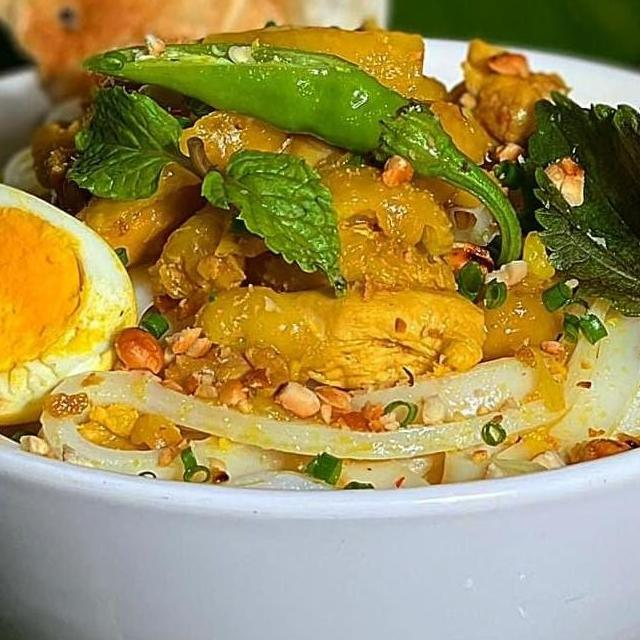mi: (27, 289, 640, 500)
trung: (0, 174, 141, 432)
